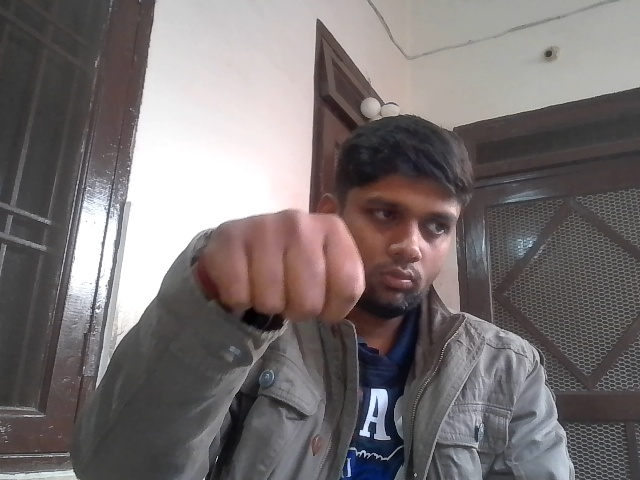Yes: (190, 214, 387, 355)
